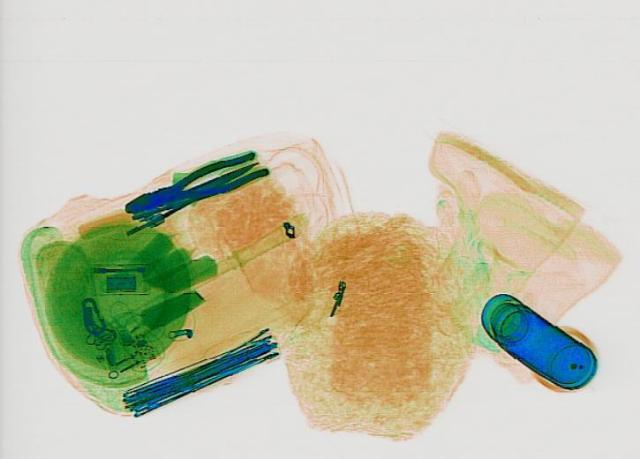Pliers: (111, 146, 273, 222)
